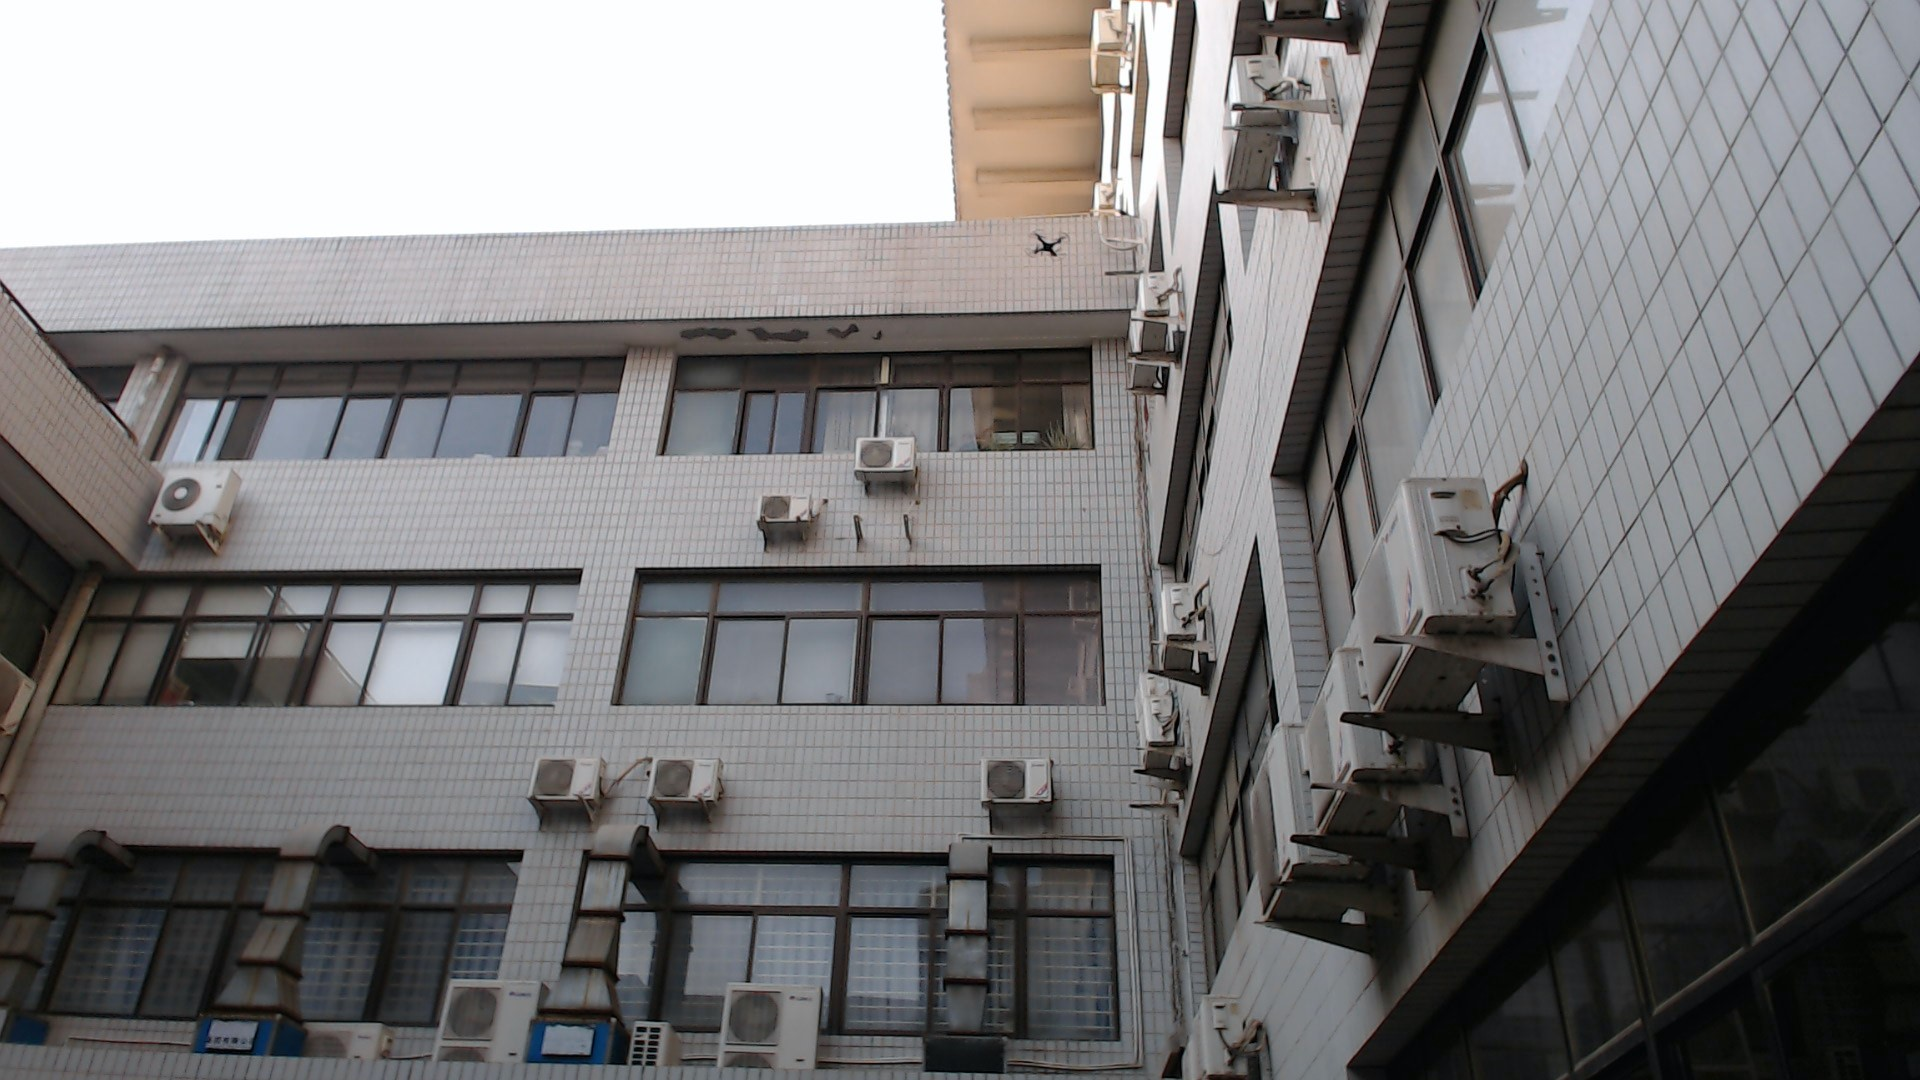drone: (1007, 214, 1091, 274)
